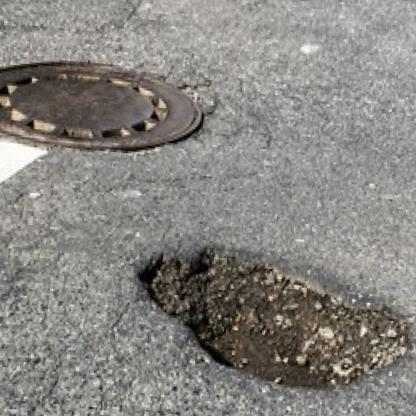pothole: (123, 243, 416, 402)
